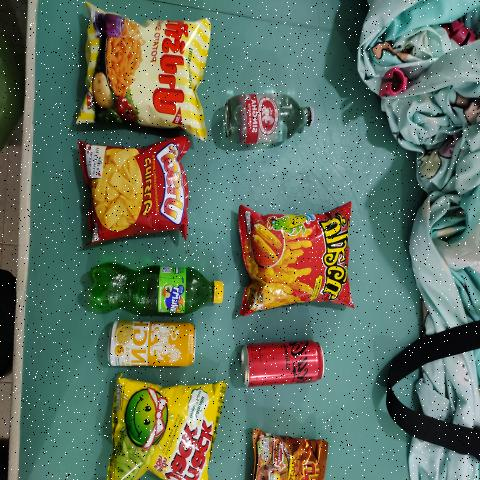coke_red: (238, 337, 326, 394)
fanta_green: (86, 268, 226, 318)
paprika: (81, 20, 207, 126)
party_red: (89, 137, 185, 235)
singha_soda: (217, 82, 317, 159)
singha_yellow: (109, 320, 197, 366)
snack_jack: (110, 388, 214, 480)
twisco: (231, 206, 349, 313)
